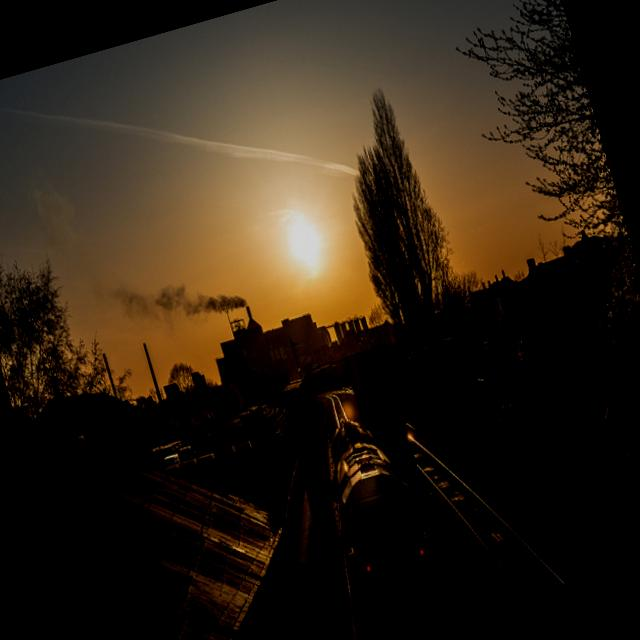Vehicle: (158, 446, 196, 474)
